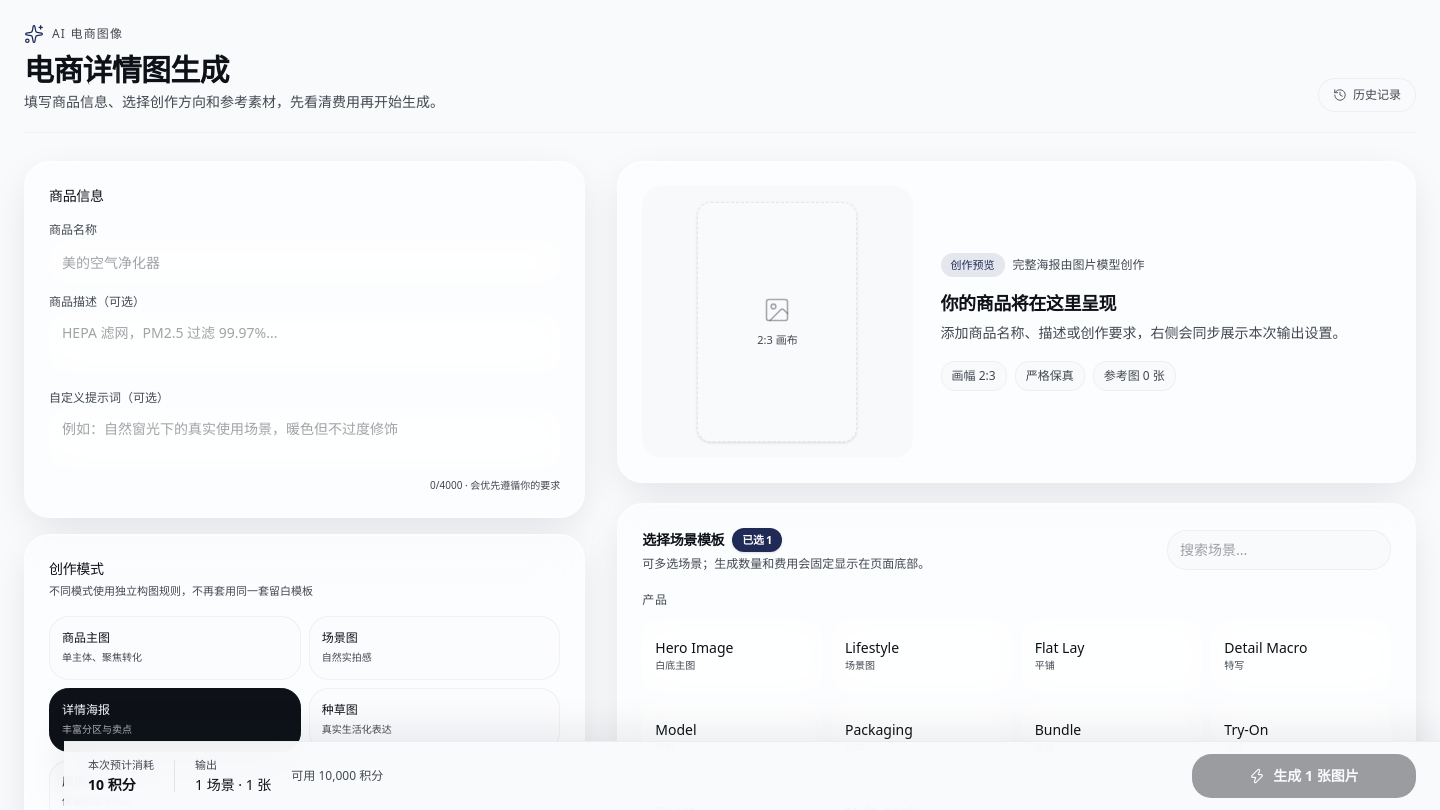
Test: EcomImagesPage interactions › generate button is enabled when product name + scenes selected
Type "空气净化器" into the field labelled "商品名称" at [305, 262], box [49,242,560,282]
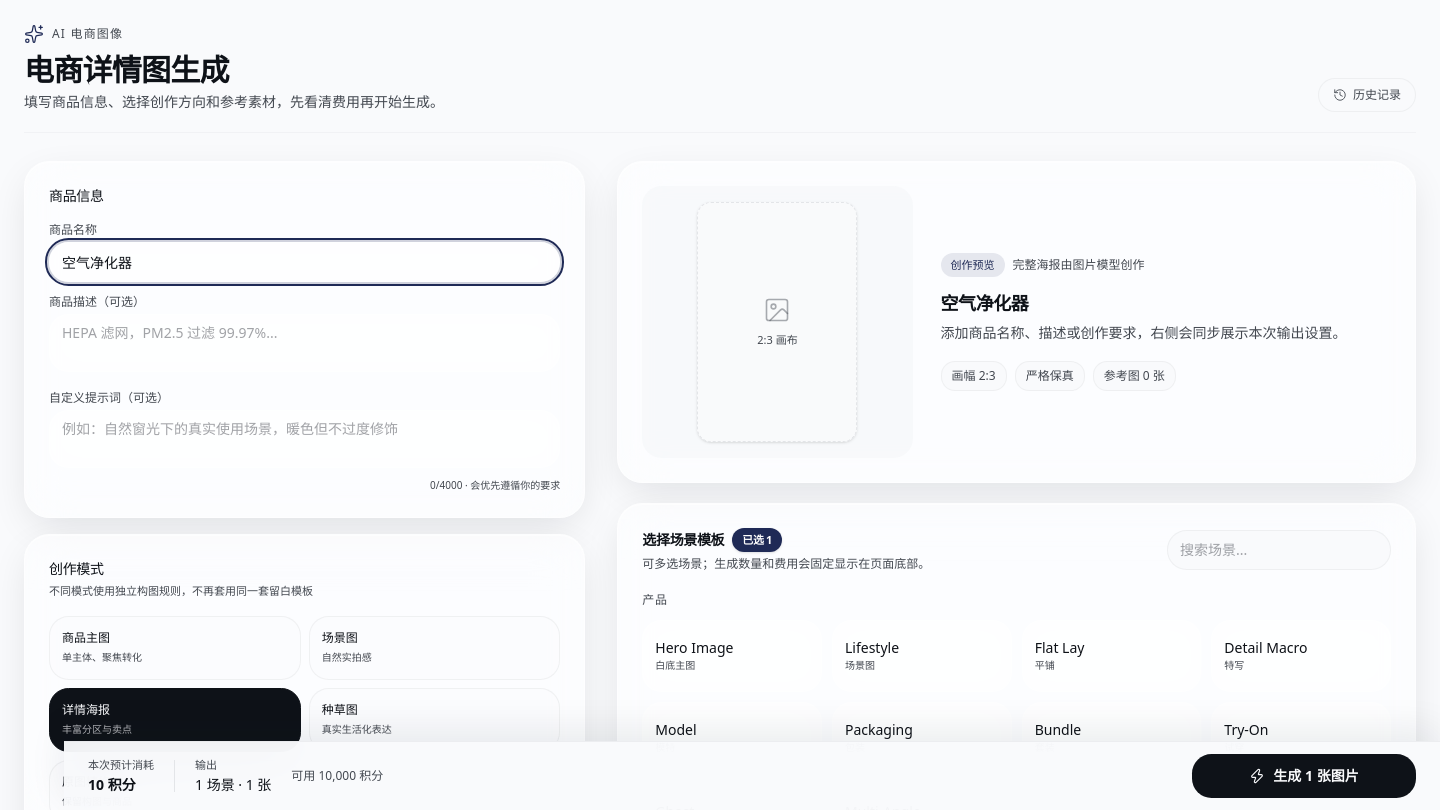
Expected: the button "生成 1 张图片" is enabled, [1192,754,1416,798]
